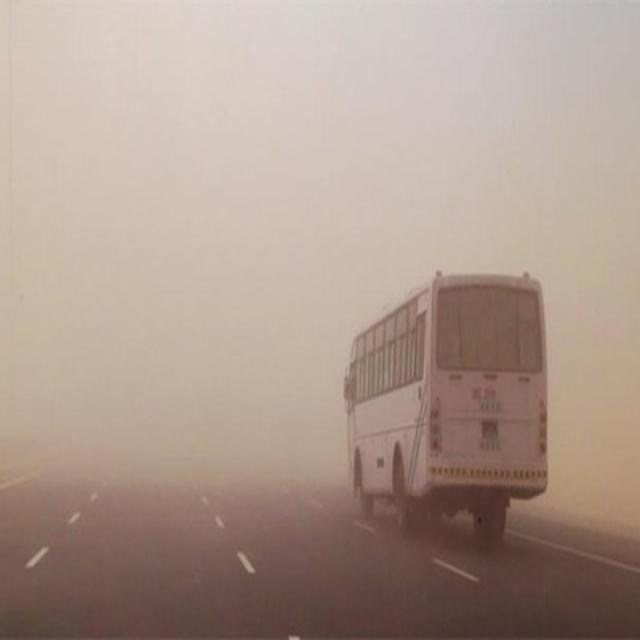Bus: (336, 262, 553, 541)
